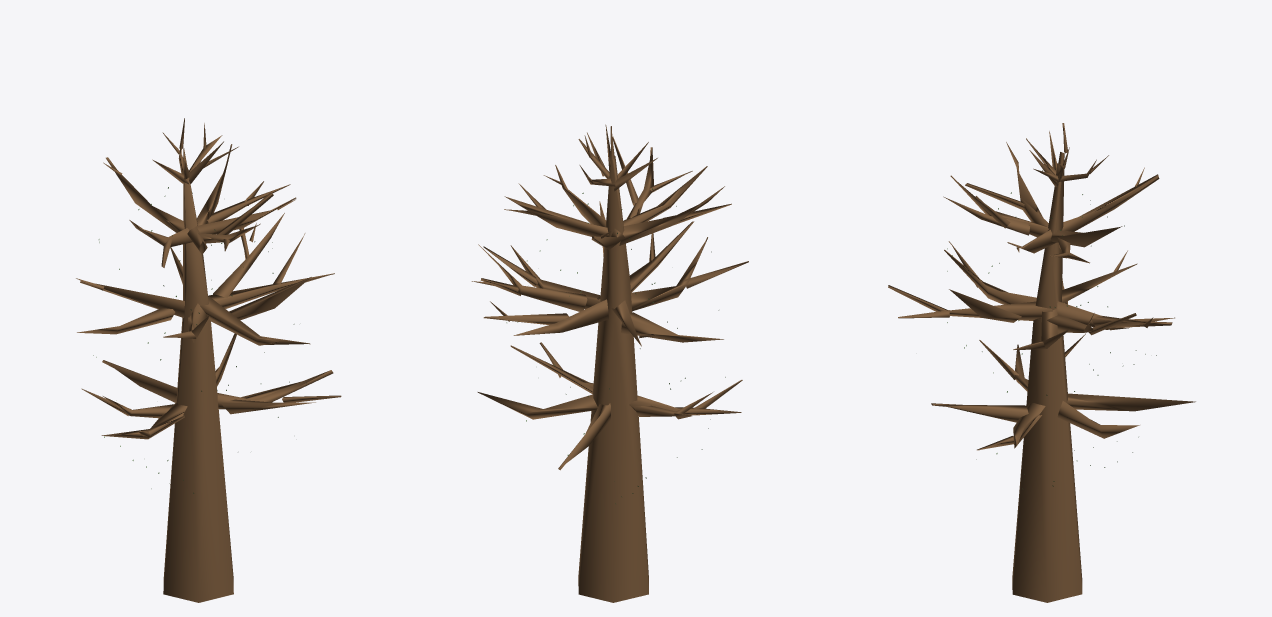
The model's file is treeeee2.fbx.
3 renders of one model, left to right at view 1: azimuth 30°, elevation 25°; view 2: azimuth 150°, elevation 25°; view 3: azimuth 270°, elevation 25°, orthographic.
Parts seen in each view (by area): view 1: tree; view 2: tree; view 3: tree.
Boxes of the visible parts, left/top/right/bottom form: tree: left=76, top=118, right=341, bottom=602; tree: left=471, top=124, right=748, bottom=602; tree: left=888, top=123, right=1195, bottom=602.
Bounding box in the file's own units: 372 × 615 × 416.
Materials: 2 (1 with a texture image).
